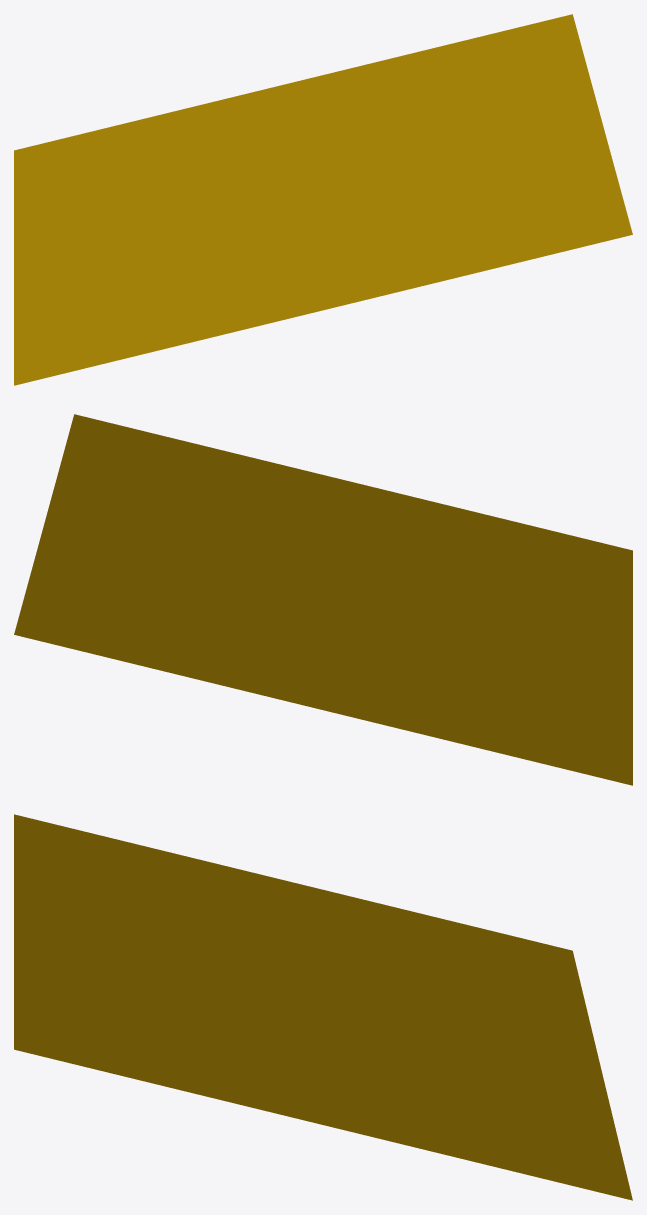
The model's file is canal_wall_p3.fbx.
The picture shows the model from 3 angles, top to bottom: view 1: azimuth 30°, elevation 25°; view 2: azimuth 150°, elevation 25°; view 3: azimuth 330°, elevation 25°; orthographic projection.
Parts seen in each view (by area): view 1: canal_wall_p3; view 2: canal_wall_p3; view 3: canal_wall_p3.
Part boxes in pixels (left/top/right/bottom): canal_wall_p3: left=14, top=14, right=632, bottom=385; canal_wall_p3: left=14, top=414, right=632, bottom=785; canal_wall_p3: left=14, top=814, right=632, bottom=1200.
Size of the model in its own units: 1329 by 483 by 0.
